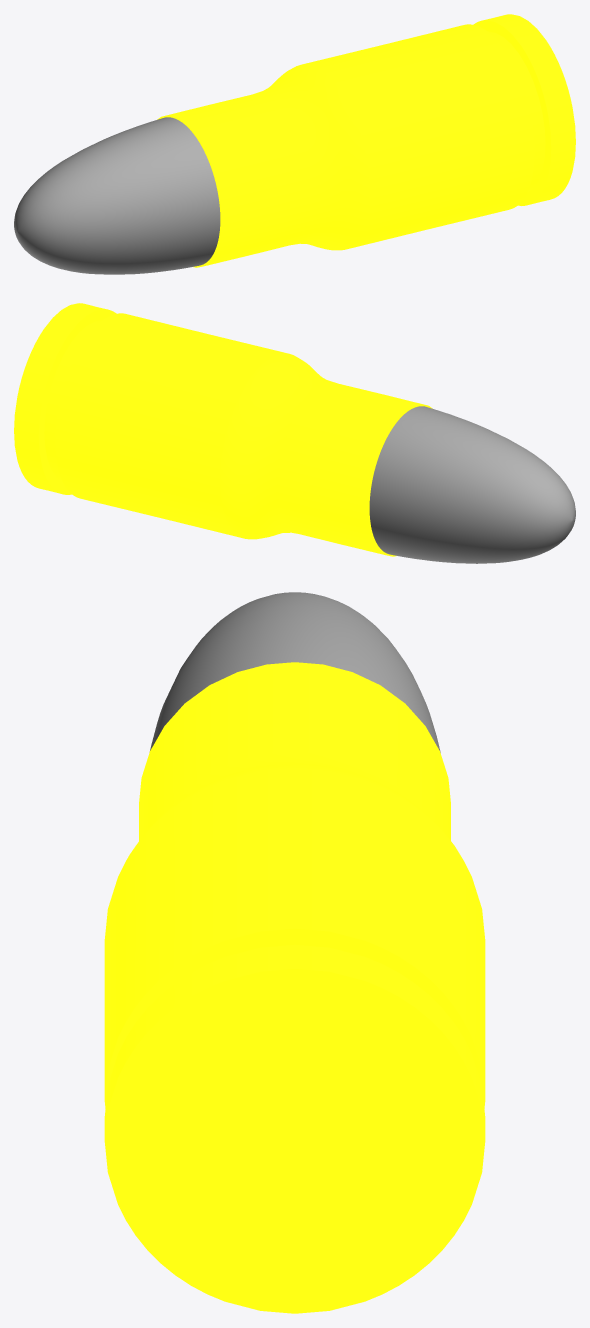
3 views of the same model, one above another, from view 1: azimuth 30°, elevation 25°; view 2: azimuth 150°, elevation 25°; view 3: azimuth 270°, elevation 25° (orthographic). The views are drawn at different scales.
Parts seen in each view (by area): view 1: Body1, Body3; view 2: Body1, Body3; view 3: Body1, Body3.
Part boxes in pixels (box(x1,y1,x2,y2)): Body1: box(157, 14, 575, 267); Body3: box(14, 117, 220, 274); Body1: box(14, 303, 432, 556); Body3: box(369, 406, 575, 563); Body1: box(104, 662, 485, 1313); Body3: box(150, 592, 440, 752).
Size of the model in its own units: 3.1 by 1 by 1.
